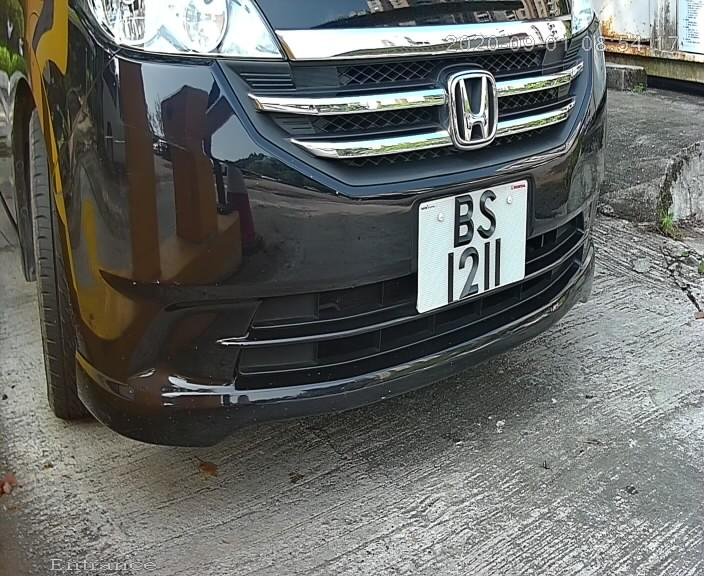Car: (23, 6, 651, 458)
License Plate: (409, 173, 538, 312)
